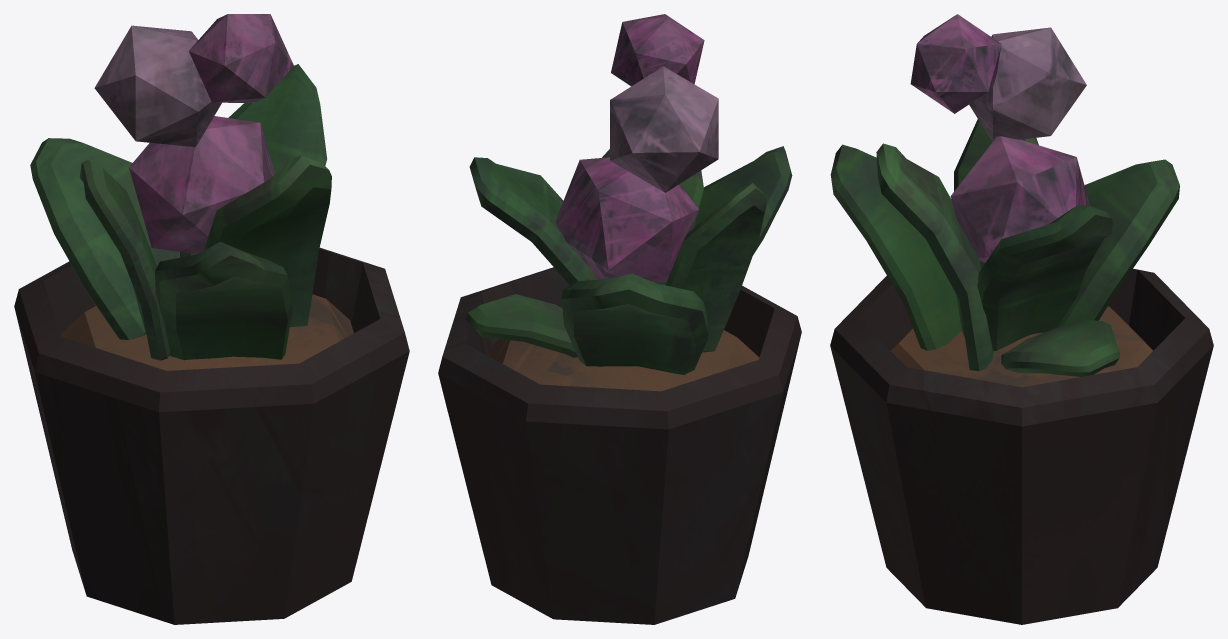
File: plant_horror.glb
3 views of the same model, side by side, from view 1: azimuth 30°, elevation 25°; view 2: azimuth 150°, elevation 25°; view 3: azimuth 270°, elevation 25° (orthographic). The views are drawn at different scales.
Parts seen in each view (by area): view 1: plant_geo1; view 2: plant_geo1; view 3: plant_geo1.
Part boxes in pixels (bbox=[...]): plant_geo1: bbox=[14, 14, 409, 624]; plant_geo1: bbox=[438, 14, 801, 624]; plant_geo1: bbox=[830, 14, 1213, 624].
Bounding box in the file's own units: 0.2237 × 0.3507 × 0.2237.
1 material, 1 textured.
